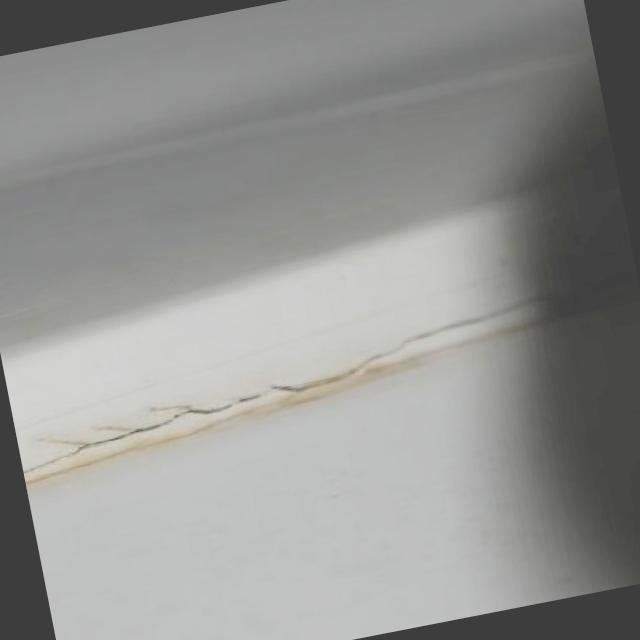crack: (23, 299, 534, 479)
